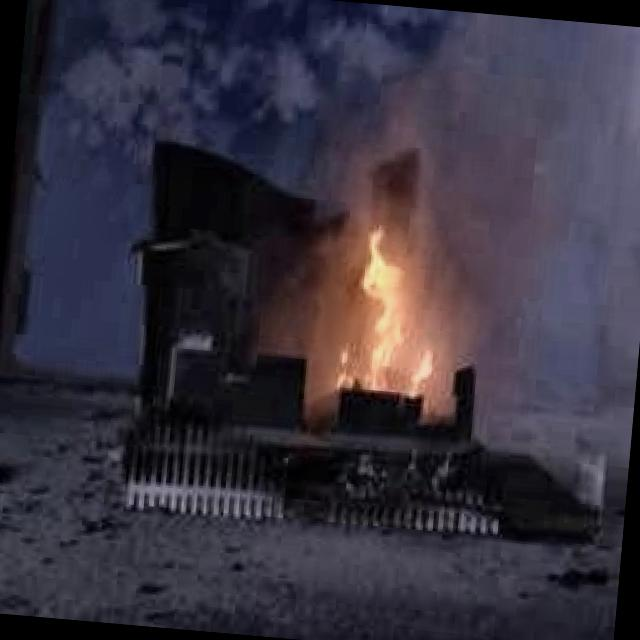fire: (304, 219, 461, 430)
smoke: (359, 4, 640, 268)
